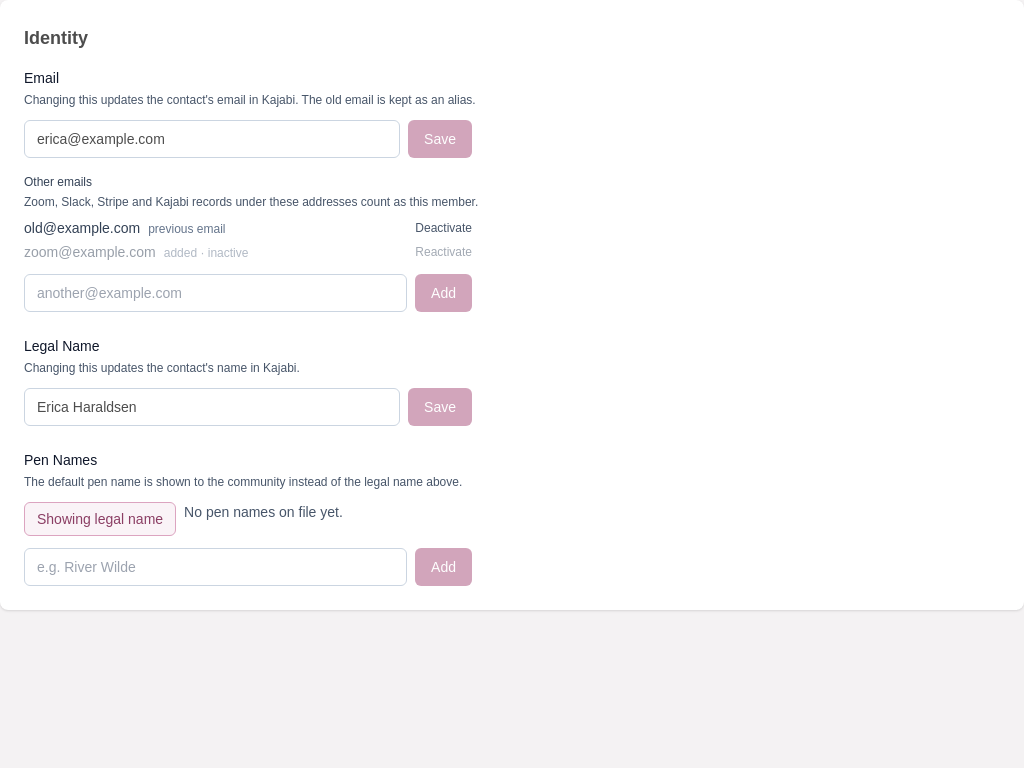
MemberIdentityPanel › links to the other member when the email is already theirs
The image size is (1024, 768).
In the field named "Add another email": (216, 293) [24,274,407,312], type "taken@example.com"
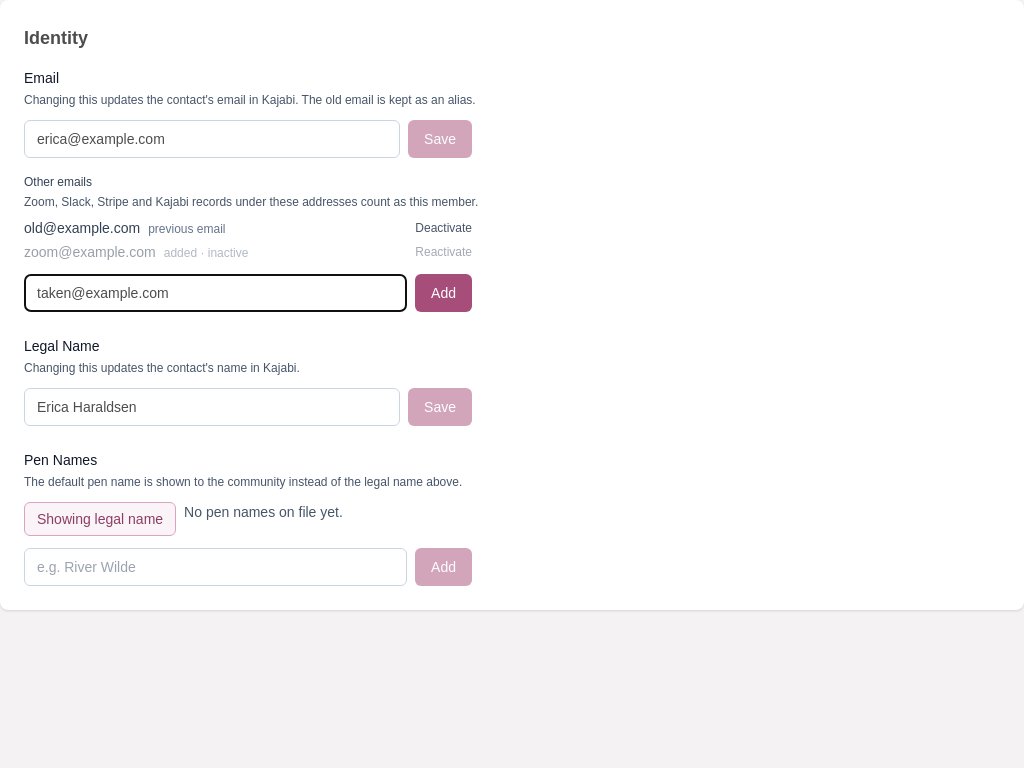
Click the button with aria-label "Add email": (444, 293) [415,274,472,312]
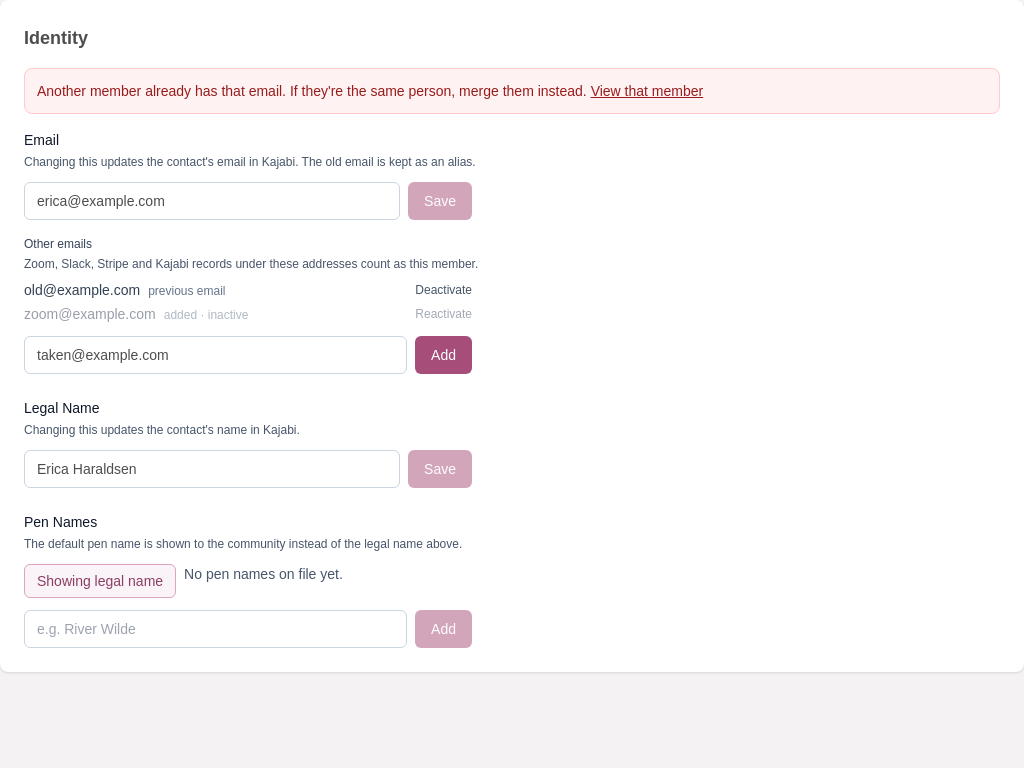
Check: the text "merge them instead" is shown, box [37,83,587,99]
